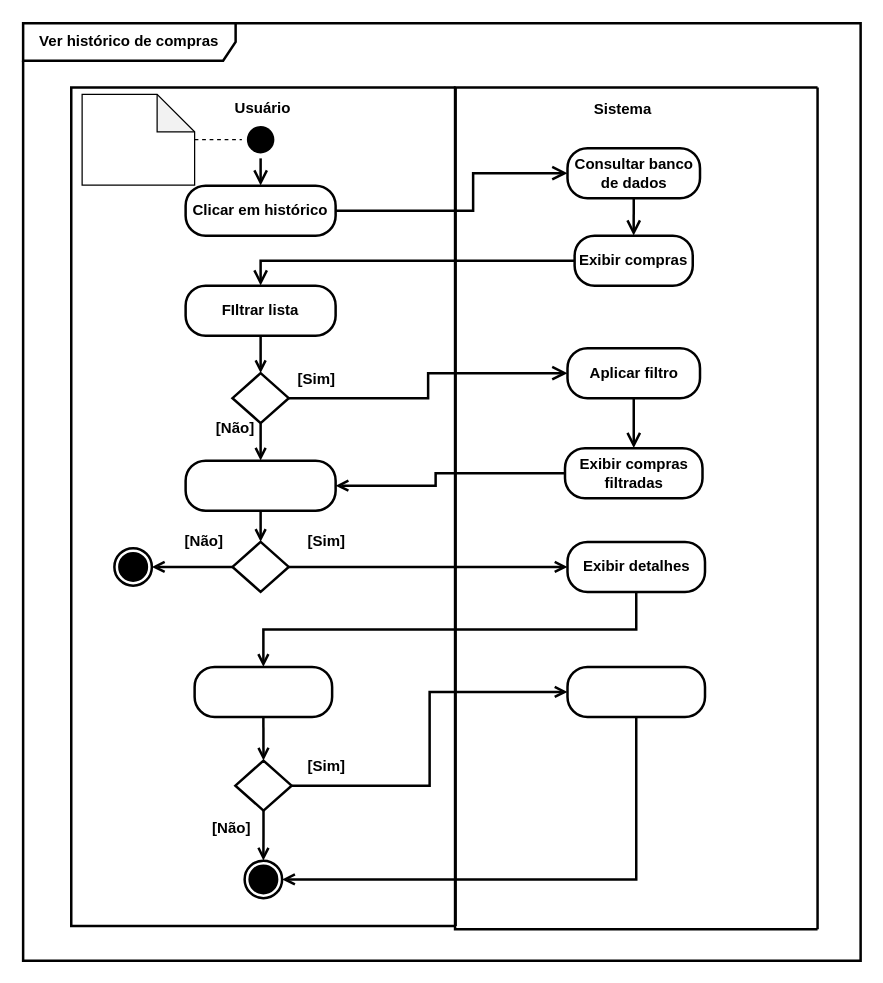
This 883x983 diagram has some shape labels left out. Here are the shapes that lost their labels. From the top down, the centre of each, then its label:
[138,139]: Logado
[260,485]: Ver detalhes
[263,691]: Baixar comprovante
[636,691]: Confirmar download
